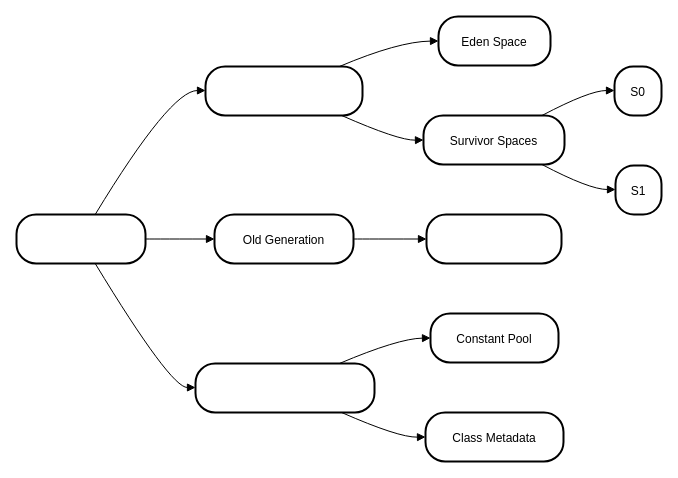
Some shapes in this 678 by 478 pixel diagram are drawn without their labels. The box of each missing label's shape, as (x1, y1, x2, y2) in pixels:
Heap Memory: (15, 213, 146, 264)
PermGen/Metaspace: (194, 362, 375, 413)
Tenured Space: (425, 213, 562, 264)
Young Generation: (204, 65, 363, 116)
